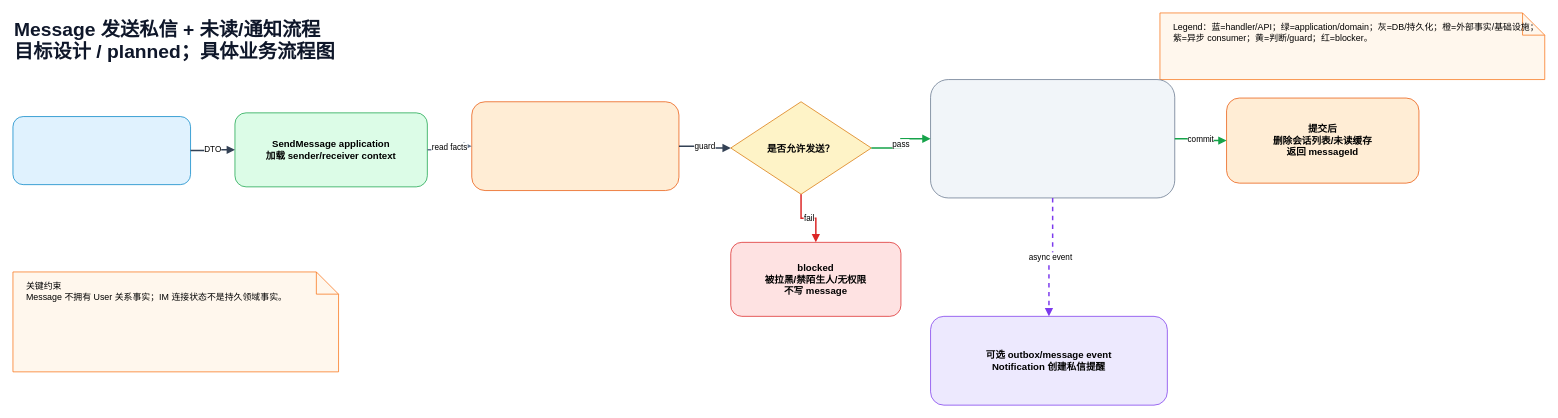
Image size: 1558x418. Some labels were removed from this diagram. The shapes that lost their labels are listed below. From the top down, each one's box as (x1, y1, x2, y2) in pixels, then its label:
(12, 116, 191, 185): POST /messages Handler 解析 receiverId/content
(471, 101, 679, 191): User contract 校验用户状态、拉黑、陌生人消息设置
(930, 79, 1175, 198): PostgreSQL transaction conversation upsert messages insert participant unread +1
